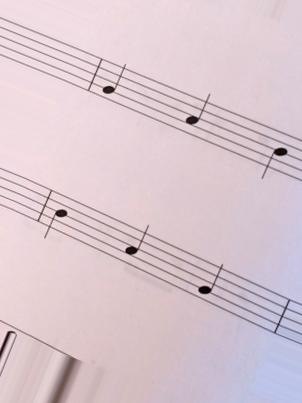note: (256, 114, 290, 184), (181, 83, 214, 150), (194, 250, 225, 320), (120, 215, 152, 281), (41, 179, 69, 250), (100, 51, 129, 114)
